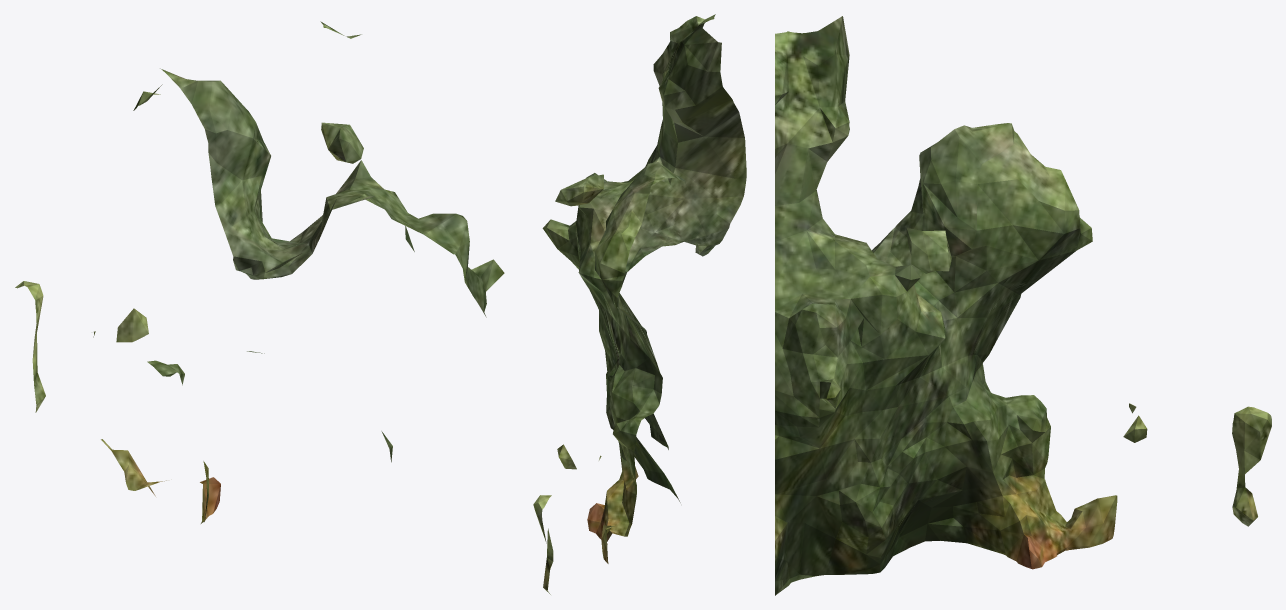
3 views of the same model, side by side, from view 1: azimuth 30°, elevation 25°; view 2: azimuth 150°, elevation 25°; view 3: azimuth 270°, elevation 25° (orthographic). The views are drawn at different scales.
Size of the model in its own units: 2.56 by 5.9 by 5.07.
2 materials, 2 textured.
